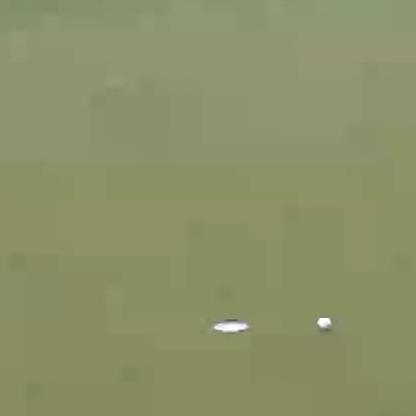golfball: (315, 316, 330, 330)
